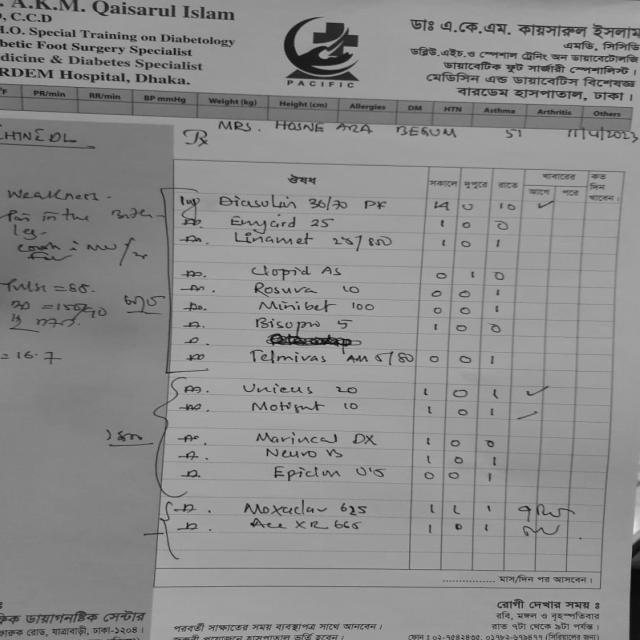medicine: (248, 428, 382, 447), (244, 345, 336, 368), (215, 192, 303, 215), (260, 464, 348, 484), (243, 515, 332, 534), (237, 379, 321, 399), (239, 498, 332, 516), (242, 398, 330, 416), (231, 230, 316, 248), (252, 314, 328, 333), (250, 280, 322, 300), (252, 298, 336, 315), (256, 447, 348, 462), (247, 263, 316, 282), (226, 214, 298, 230)
